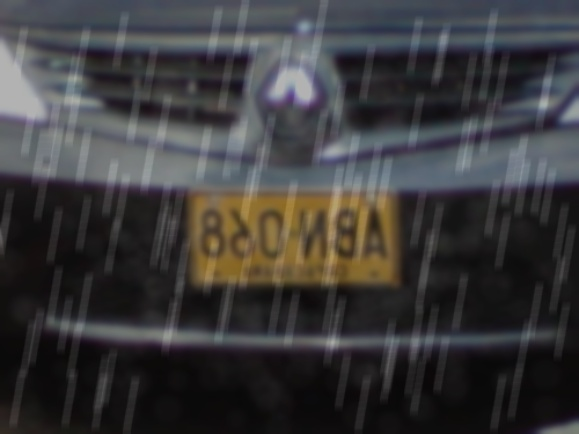placas: (185, 186, 402, 289)
